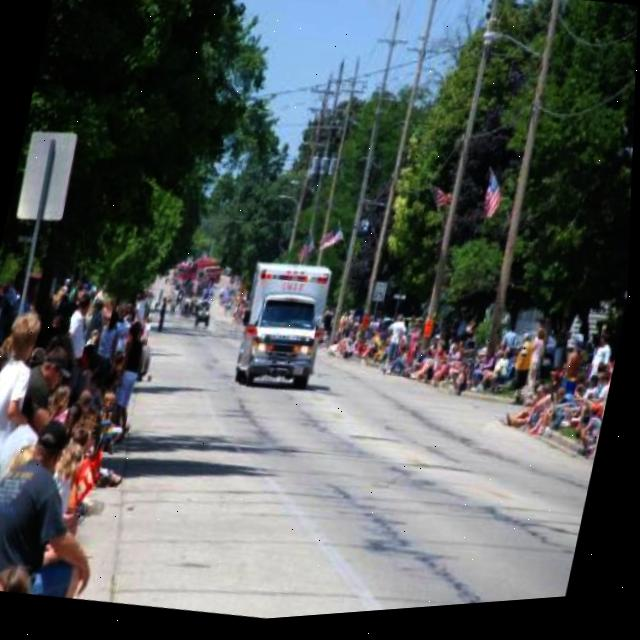emergency: (229, 257, 338, 401)
